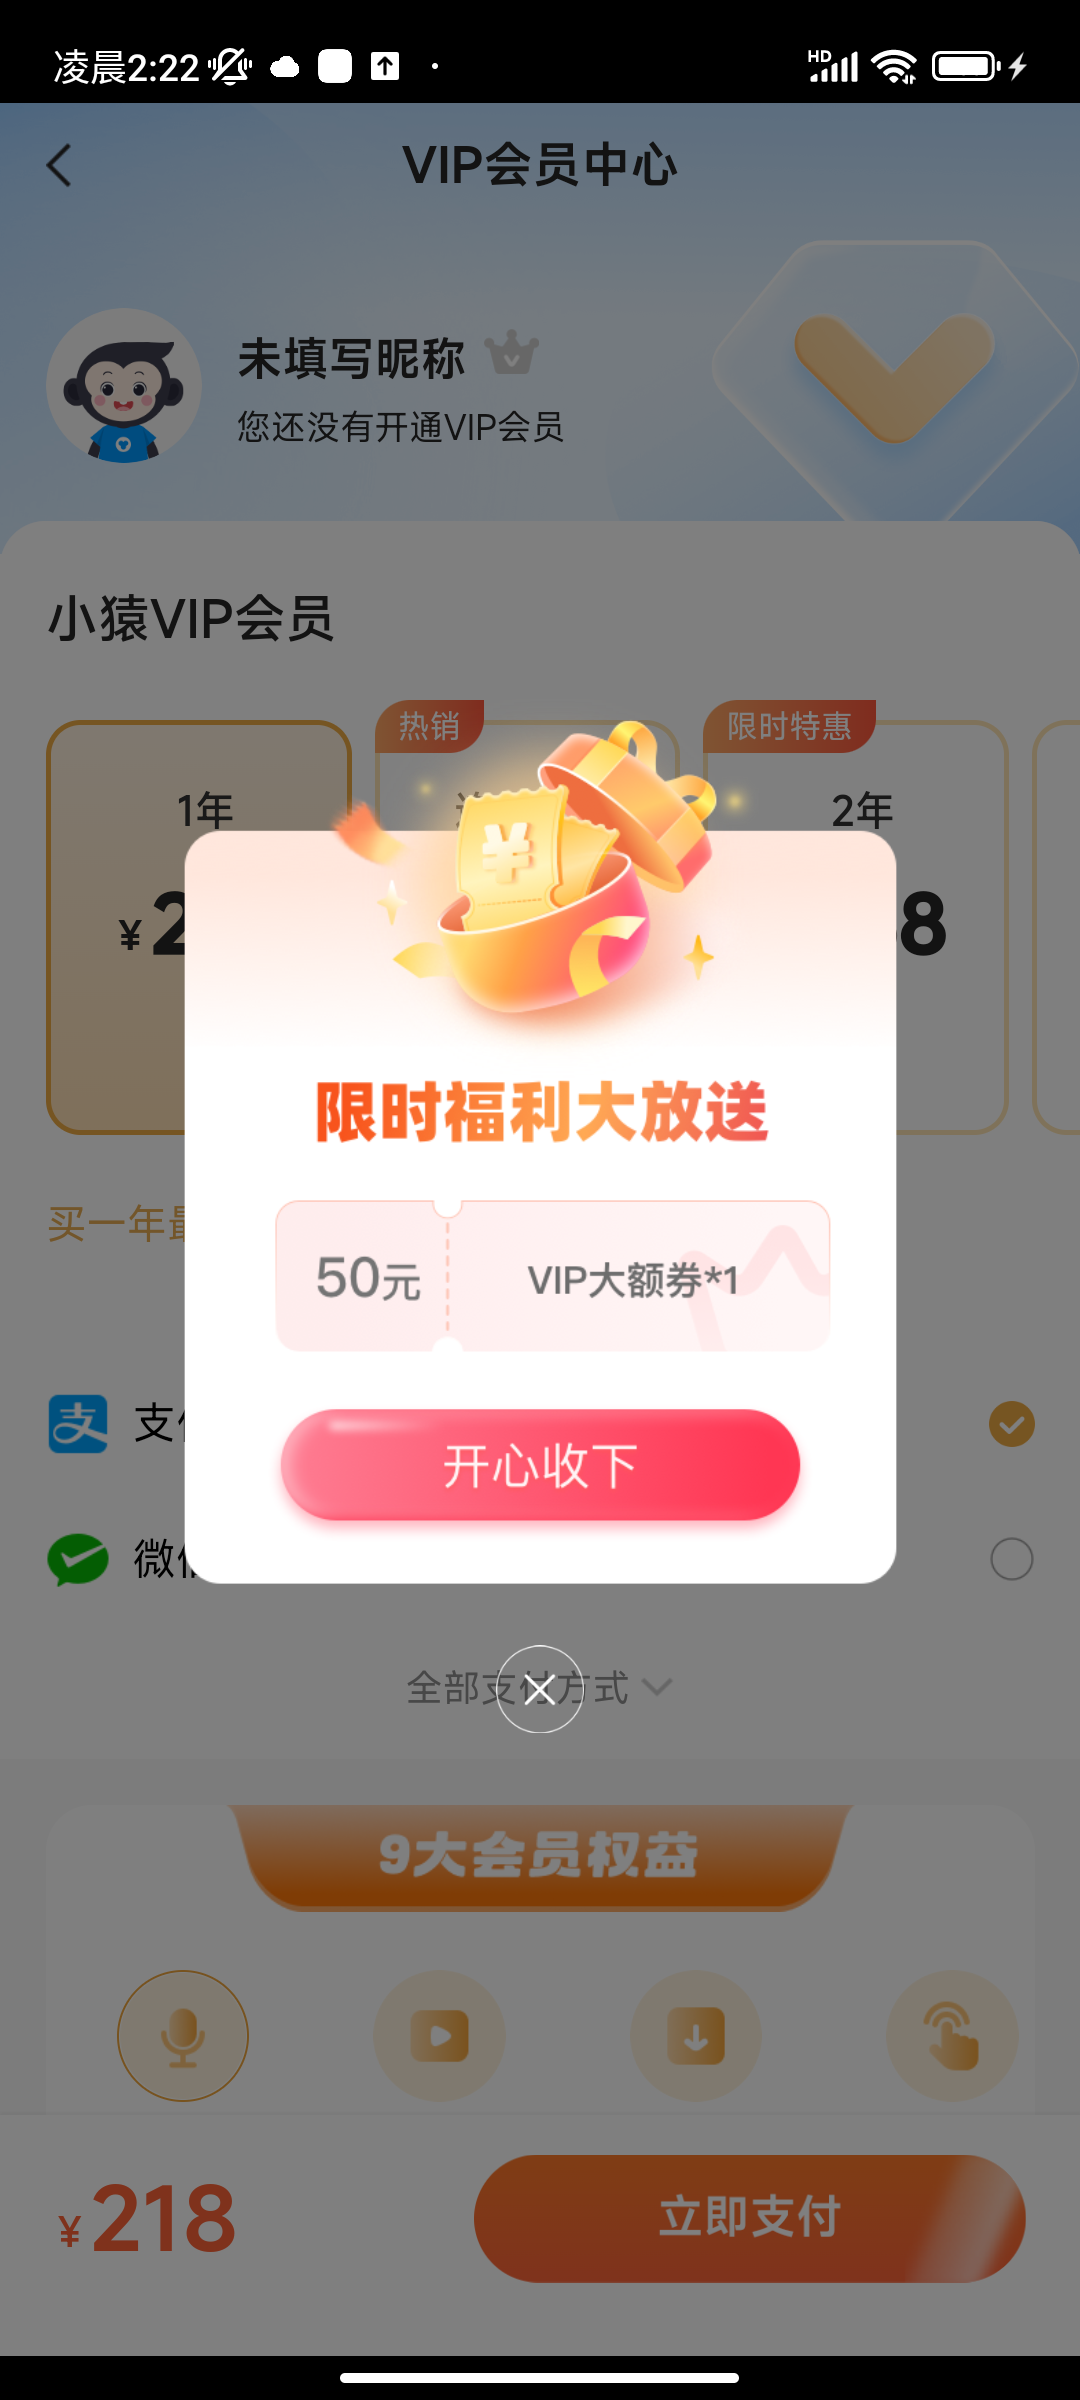ui_group: (184, 825, 896, 1593)
